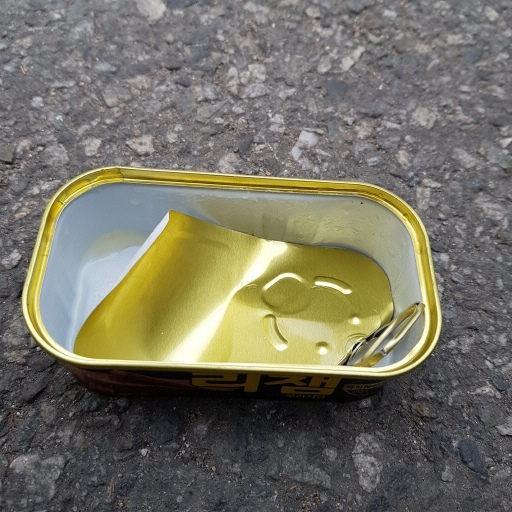Metal_2: (20, 164, 445, 405)
